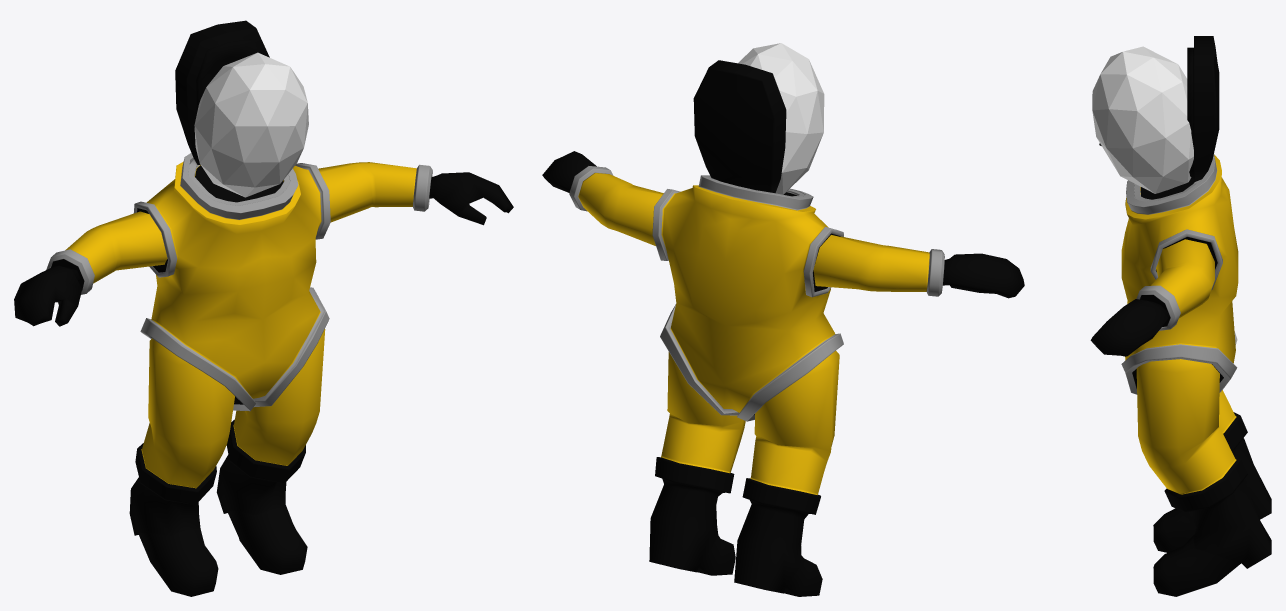
The model's file is joshtronaut_simplified.glb.
3 views of the same model, side by side, from view 1: azimuth 30°, elevation 25°; view 2: azimuth 150°, elevation 25°; view 3: azimuth 270°, elevation 25° (orthographic). The views are drawn at different scales.
Parts seen in each view (by area): view 1: Torso_and_Helmet, Leg_R, Leg_L, Head, Arm_R, Arm_L; view 2: Torso_and_Helmet, Leg_R, Leg_L, Arm_R, Head, Arm_L; view 3: Leg_L, Torso_and_Helmet, Head, Arm_L, Leg_R.
Part boxes in pixels (x1,y1,x2,y2): Torso_and_Helmet: (133, 20, 330, 411); Leg_R: (129, 338, 234, 596); Leg_L: (216, 329, 325, 574); Head: (194, 52, 308, 197); Arm_R: (14, 211, 167, 326); Arm_L: (318, 162, 513, 225); Torso_and_Helmet: (652, 60, 843, 421); Leg_R: (734, 351, 839, 596); Leg_L: (649, 352, 745, 575); Arm_R: (813, 235, 1024, 298); Head: (738, 43, 824, 194); Arm_L: (542, 151, 663, 245); Leg_L: (1136, 359, 1271, 596); Torso_and_Helmet: (1121, 36, 1238, 394); Head: (1092, 46, 1193, 193); Arm_L: (1090, 239, 1214, 356); Leg_R: (1153, 390, 1271, 552).
Bounding box in the file's own units: 2.43 × 2.69 × 0.9742.
